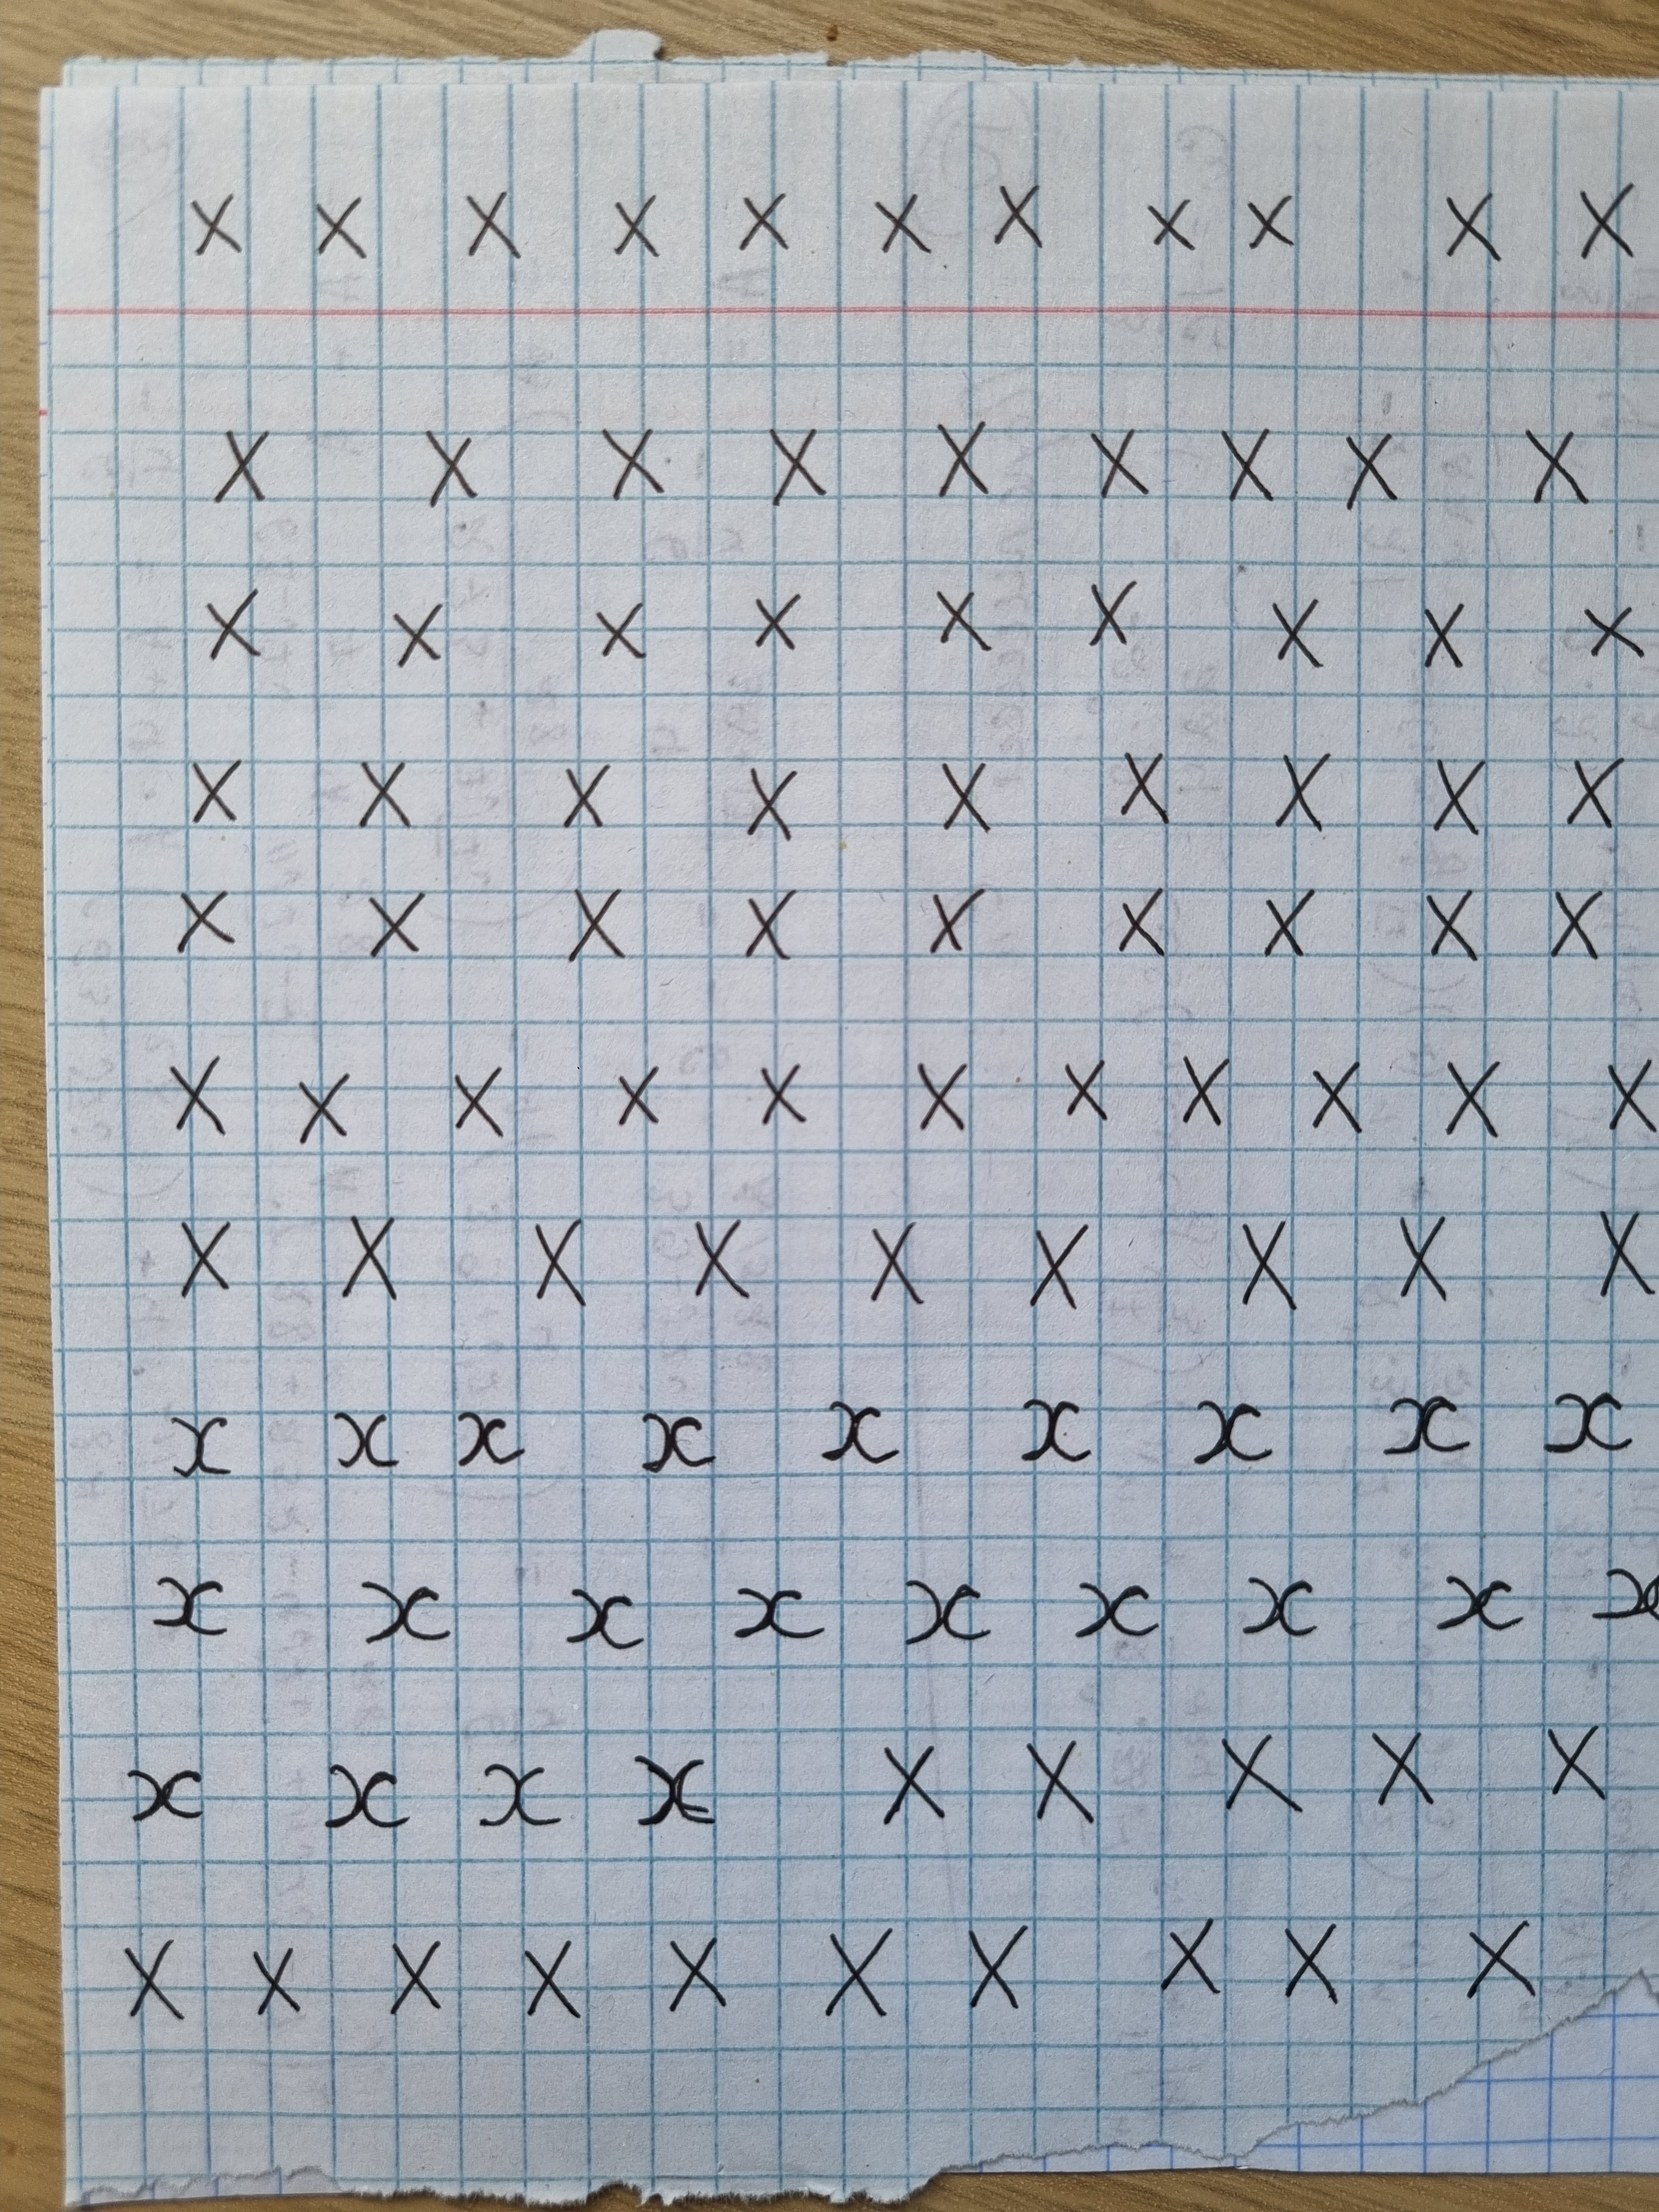x: (1211, 1723, 1302, 1829), (1150, 1902, 1229, 2000), (960, 1912, 1032, 2019), (1018, 1730, 1096, 1825), (1535, 1712, 1612, 1810), (336, 1205, 408, 1310), (821, 1919, 896, 2019), (1234, 1205, 1302, 1312), (514, 1935, 592, 2026), (117, 1932, 192, 2026), (1359, 1723, 1434, 1813), (1467, 1916, 1544, 2003), (1276, 1919, 1347, 2012), (760, 418, 835, 505), (657, 1926, 730, 2015), (685, 1209, 753, 1303), (863, 1212, 927, 1310), (1518, 418, 1593, 502), (877, 1731, 943, 1825), (525, 1209, 586, 1310), (160, 1049, 230, 1134), (596, 421, 669, 502), (1028, 1216, 1089, 1312), (924, 876, 992, 961), (1389, 1205, 1450, 1299), (1086, 418, 1154, 502), (192, 583, 260, 667), (927, 413, 992, 500), (169, 880, 237, 961), (418, 421, 479, 512), (904, 1049, 965, 1137), (350, 747, 411, 834), (1434, 186, 1502, 263), (214, 418, 272, 509), (1441, 1050, 1499, 1141), (169, 1216, 237, 1292), (185, 183, 249, 263), (362, 883, 427, 963), (1302, 1054, 1366, 1134), (1253, 880, 1316, 961), (382, 1926, 439, 2015), (1412, 592, 1473, 676), (1260, 592, 1324, 671), (1422, 744, 1480, 831), (927, 580, 992, 657), (1276, 747, 1328, 841), (244, 1939, 305, 2019), (934, 751, 992, 834), (1215, 418, 1272, 500), (460, 183, 521, 260), (1340, 428, 1401, 505), (1544, 880, 1605, 954), (552, 754, 612, 831), (446, 1061, 505, 1137), (749, 1061, 809, 1134), (295, 1071, 354, 1144), (737, 887, 795, 961), (1115, 742, 1166, 826), (870, 186, 927, 260), (1237, 183, 1302, 247), (741, 761, 795, 838), (570, 887, 624, 963), (1180, 1049, 1230, 1130), (1082, 566, 1134, 644), (1422, 887, 1476, 961), (301, 193, 366, 256), (1115, 880, 1166, 958), (392, 599, 446, 672), (734, 190, 795, 254), (586, 596, 643, 664), (183, 754, 240, 822), (746, 585, 802, 651), (612, 1057, 659, 1134), (992, 172, 1037, 251), (608, 186, 657, 256), (1140, 195, 1195, 254), (1060, 1054, 1105, 1118)
